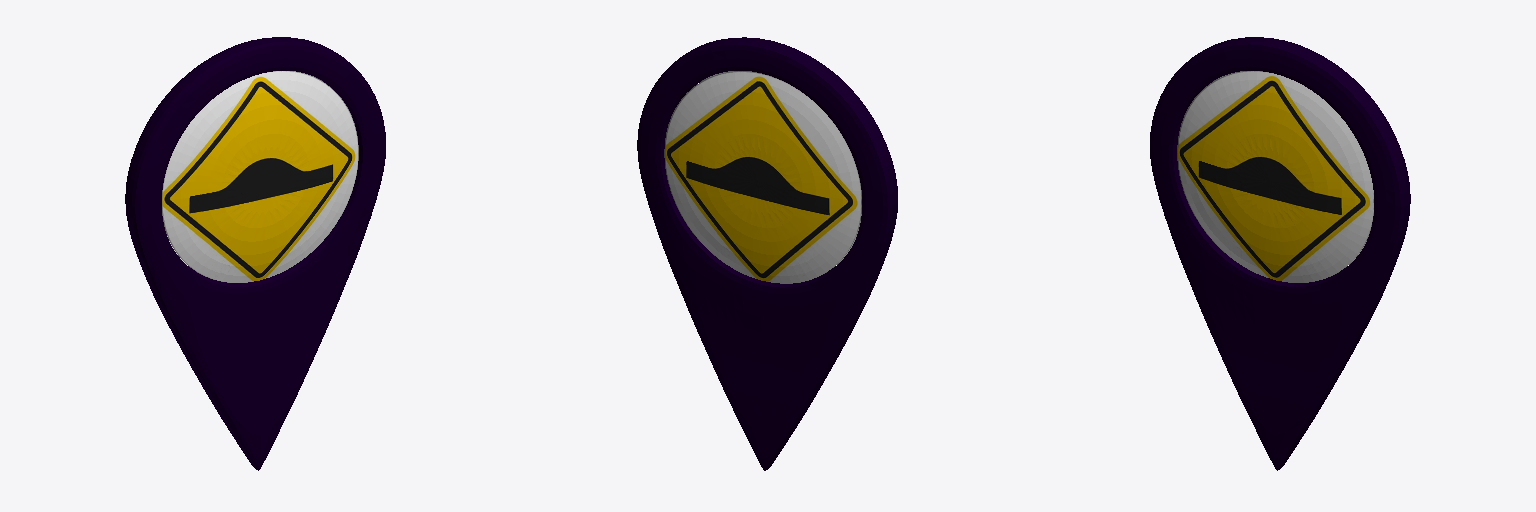
The picture shows the model from 3 angles: view 1: azimuth 30°, elevation 25°; view 2: azimuth 150°, elevation 25°; view 3: azimuth 330°, elevation 25°; orthographic projection.
Visible parts, largest first — view 1: Circle.034_Circle.009, Circle.022_Circle.039; view 2: Circle.034_Circle.009, Circle.022_Circle.039; view 3: Circle.034_Circle.009, Circle.022_Circle.039.
Boxes of the visible parts, x1=… form: Circle.034_Circle.009: x1=125, y1=37, x2=385, y2=470; Circle.022_Circle.039: x1=162, y1=71, x2=358, y2=282; Circle.034_Circle.009: x1=637, y1=37, x2=897, y2=470; Circle.022_Circle.039: x1=664, y1=71, x2=861, y2=283; Circle.034_Circle.009: x1=1150, y1=37, x2=1410, y2=470; Circle.022_Circle.039: x1=1177, y1=71, x2=1373, y2=282.
Bounding box in the file's own units: 2.69 × 4.3 × 0.3594.
Materials: 2 (1 with a texture image).